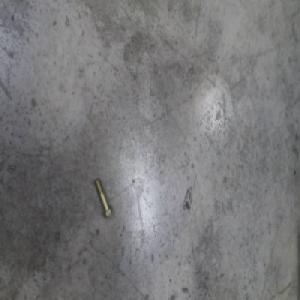Bolt: (93, 176, 112, 219)
